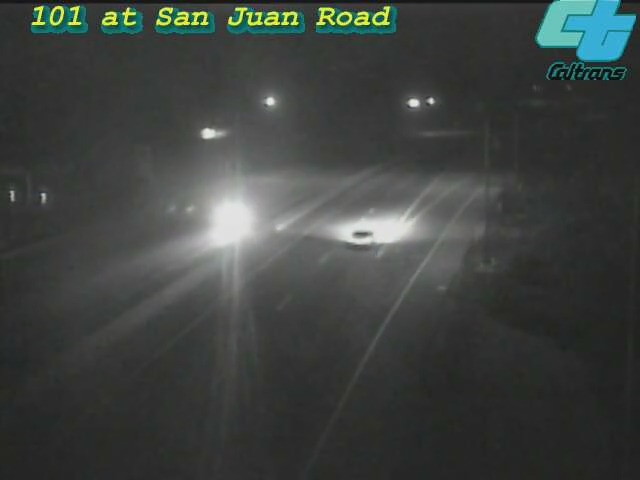vehicle: (322, 198, 402, 278), (191, 179, 271, 259)
